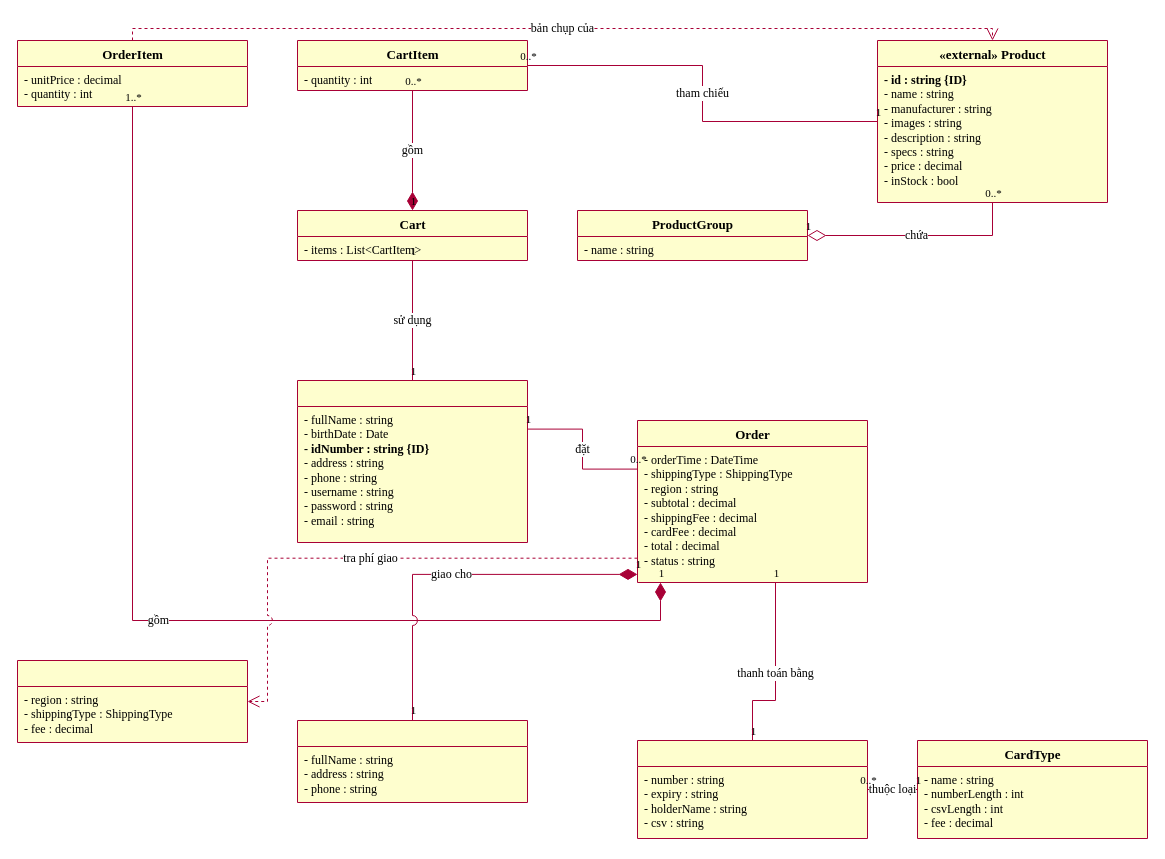
Some shapes in this 1165 by 859 pixel diagram are drawn without their labels. Each missing label, with the box of its shape:
CreditCard: (636, 740, 868, 838)
Customer: (296, 380, 528, 542)
Receiver: (296, 720, 528, 802)
ShippingRate: (16, 660, 248, 742)
